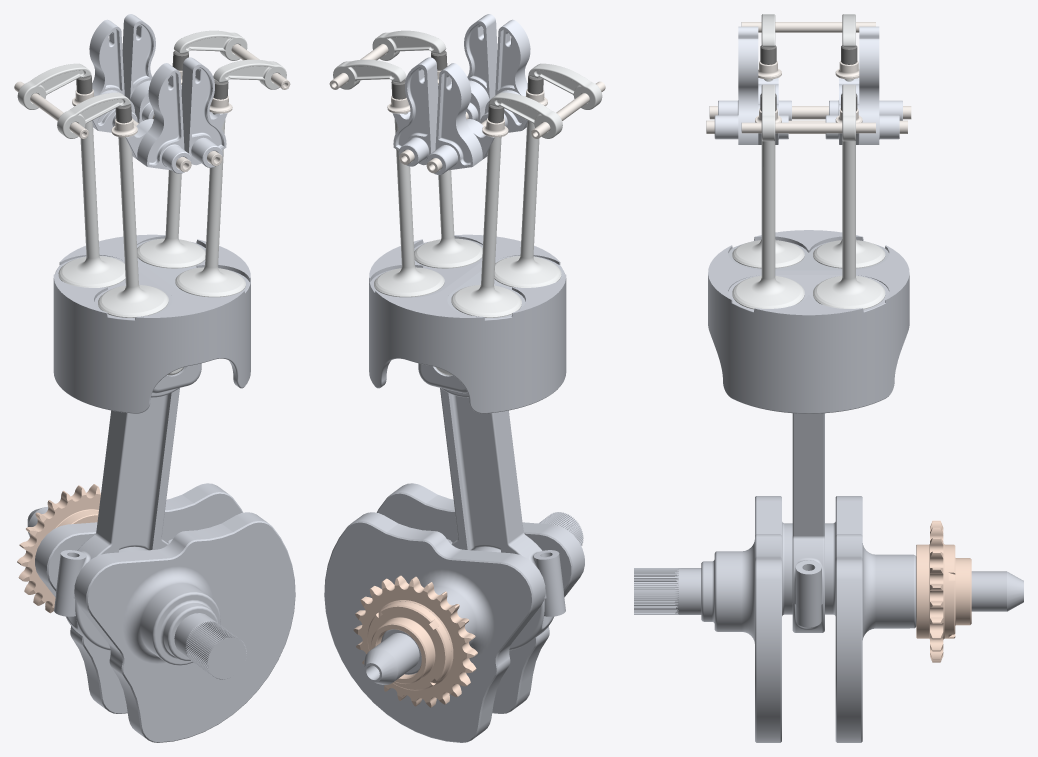
File: piston-valve.gltf
3 renders of one model, left to right at view 1: azimuth 30°, elevation 25°; view 2: azimuth 150°, elevation 25°; view 3: azimuth 270°, elevation 25°, orthographic. The views are drawn at different scales.
Visible parts, largest first — view 1: Crankshaft-1, Piston Head-1, Connecting Rod-1, Closing Rocker Arm-1-2 (×2), Valve-4 (×2), Valve-3 (×2), Opening Rocker Arm-2-1 (×2), Sprocket Small-1, Rocker Arm-1 (×2), Rocker Arm-2 (×2), Cap-1, Rocker Shafts-2-1; view 2: Crankshaft-1, Piston Head-1, Connecting Rod-1, Sprocket Small-1, Opening Rocker Arm-2-1 (×2), Valve-3 (×2), Valve-4 (×2), Closing Rocker Arm-1-2 (×2), Rocker Arm-2 (×2), Rocker Arm-1 (×2), Cap-1, Rocker Shafts-2-1; view 3: Crankshaft-1, Piston Head-1, Connecting Rod-1, Sprocket Small-1, Valve-4 (×2), Valve-3 (×2), Opening Rocker Arm-2-1 (×2), Closing Rocker Arm-1-2 (×2), Rocker Shafts-2-1 (×2), Rocker Arm-1, Cap-1, Rocker Arm-2 (+1 smaller).
Boxes of the visible parts, box(x1,y1,x2,y2) form: Crankshaft-1: box(27, 483, 295, 742); Piston Head-1: box(53, 234, 250, 413); Connecting Rod-1: box(56, 388, 179, 598); Closing Rocker Arm-1-2 (×2): box(122, 14, 191, 173); Valve-4 (×2): box(58, 113, 245, 297); Valve-3 (×2): box(98, 137, 205, 317); Opening Rocker Arm-2-1 (×2): box(89, 19, 227, 167); Sprocket Small-1: box(17, 484, 100, 613); Rocker Arm-1 (×2): box(17, 59, 286, 109); Rocker Arm-2 (×2): box(57, 30, 247, 138); Cap-1: box(54, 593, 110, 650); Rocker Shafts-2-1: box(14, 81, 88, 138); Crankshaft-1: box(324, 483, 584, 742); Piston Head-1: box(369, 234, 566, 413); Connecting Rod-1: box(440, 388, 563, 598); Sprocket Small-1: box(353, 575, 477, 707); Opening Rocker Arm-2-1 (×2): box(426, 14, 497, 174); Valve-3 (×2): box(374, 113, 561, 297); Valve-4 (×2): box(414, 137, 521, 317); Closing Rocker Arm-1-2 (×2): box(392, 19, 530, 166); Rocker Arm-2 (×2): box(333, 59, 602, 109); Rocker Arm-1 (×2): box(372, 30, 562, 138); Cap-1: box(509, 593, 565, 650); Rocker Shafts-2-1: box(531, 81, 605, 138); Crankshaft-1: box(634, 496, 1023, 742); Piston Head-1: box(708, 230, 909, 413); Connecting Rod-1: box(792, 413, 824, 610); Sprocket Small-1: box(916, 520, 971, 662); Valve-4 (×2): box(732, 79, 885, 309); Valve-3 (×2): box(732, 79, 885, 309); Opening Rocker Arm-2-1 (×2): box(714, 26, 902, 144); Closing Rocker Arm-1-2 (×2): box(718, 26, 899, 144); Rocker Shafts-2-1 (×2): box(741, 22, 875, 133); Rocker Arm-1: box(761, 84, 775, 141); Cap-1: box(792, 603, 824, 632); Rocker Arm-2: box(842, 84, 855, 141).
Bounding box in the file's own units: 0.2019 × 0.5704 × 0.29.
